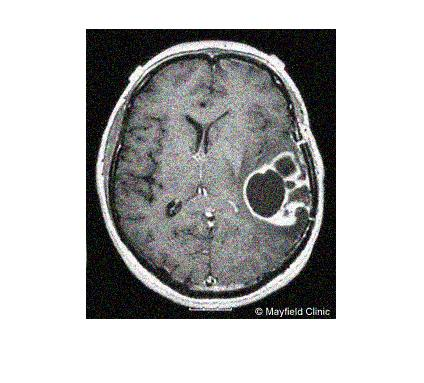Brain_Cancer: (246, 151, 310, 229)
